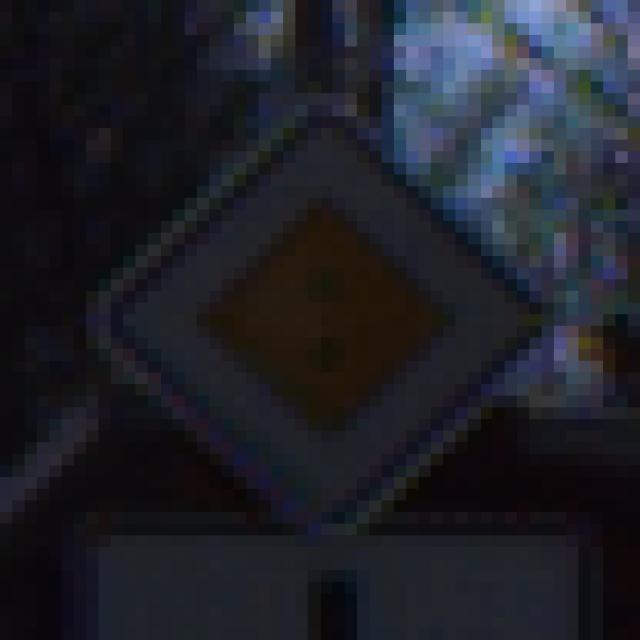Main Road: (75, 59, 579, 583)
